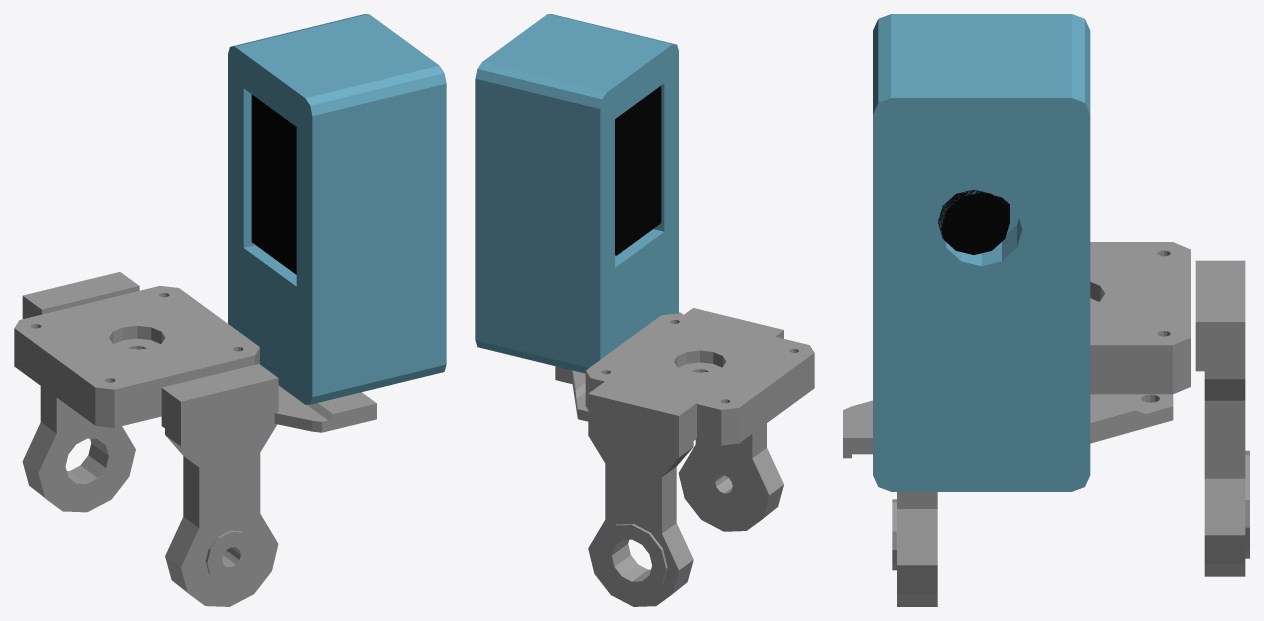
Rendered from head-leye-y.glb.
The picture shows the model from 3 angles, left to right: view 1: azimuth 30°, elevation 25°; view 2: azimuth 150°, elevation 25°; view 3: azimuth 270°, elevation 25°; orthographic projection. The views are drawn at different scales.
Bounding box in the file's own units: 0.0517 × 0.0771 × 0.045.
